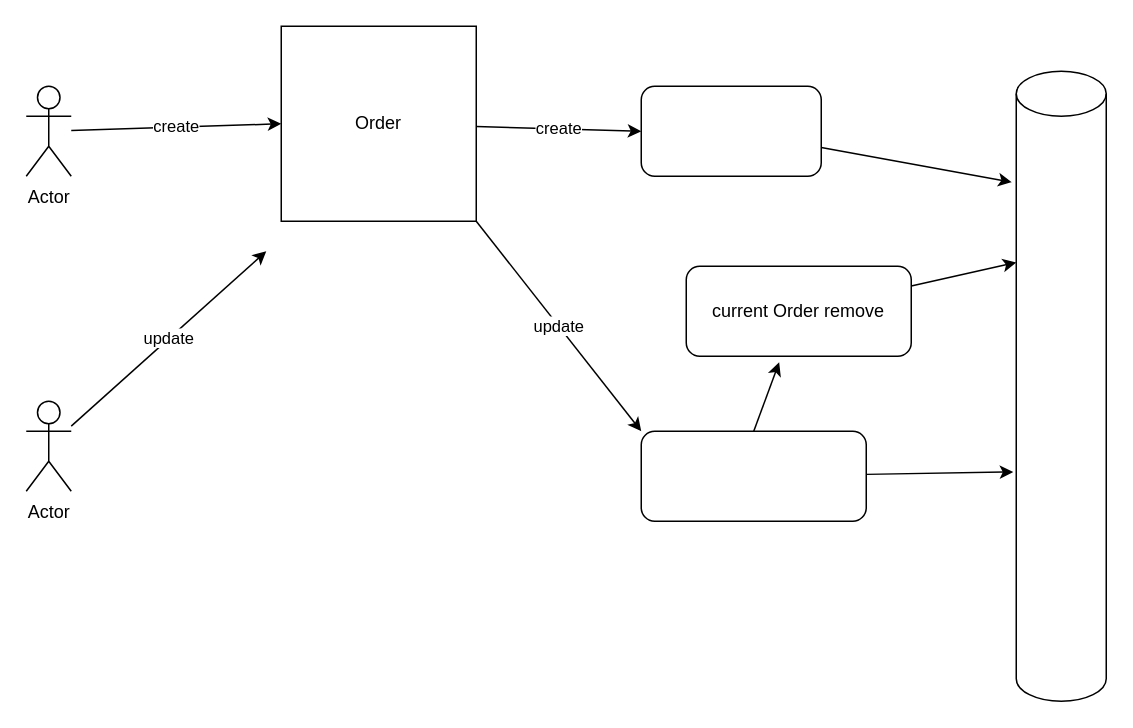
Some shapes in this 1133 by 728 pixel diagram are drawn without their labels. The centre of each missing label's shape, as x and y in pixels:
"all orders" goes at (753,475).
"Current Order" goes at (730,130).
